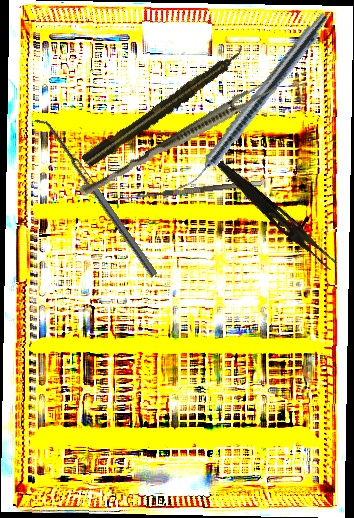Dressing Forceps: (211, 158, 341, 272)
Handpiece: (174, 6, 334, 201), (79, 43, 251, 170)
Hook Surgical: (115, 180, 264, 209)
Spatula Surgical: (33, 113, 158, 282)
Tissue Forceps: (77, 74, 277, 205)
